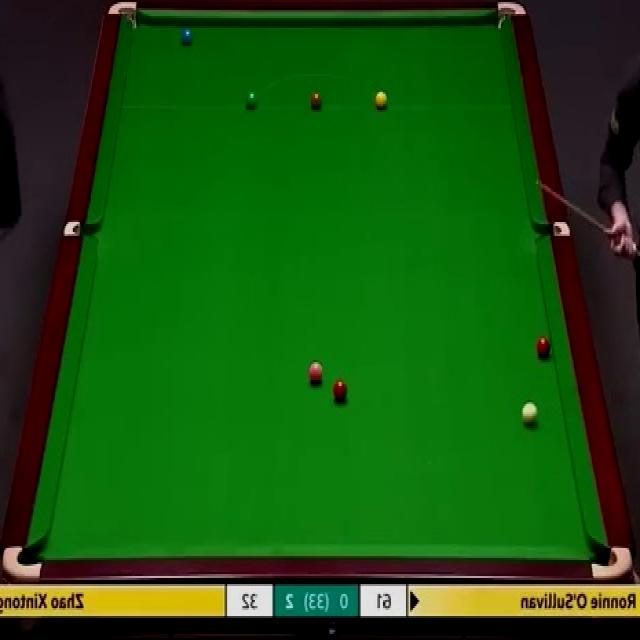blue-ball: (180, 27, 194, 46)
brown-ball: (310, 92, 323, 109)
green-ball: (244, 88, 258, 112)
pink-ball: (308, 361, 324, 384)
red-ball: (535, 335, 551, 358), (333, 378, 348, 401)
white-ball: (519, 401, 539, 428)
yellow-ball: (374, 89, 388, 110)
